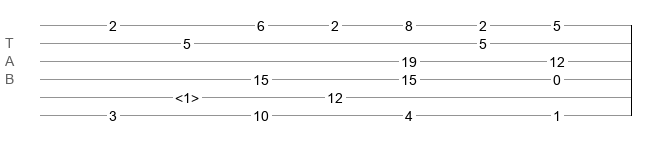0: (553, 72, 561, 82)
1: (553, 108, 561, 118)
10: (253, 108, 269, 118)
12: (327, 90, 343, 100), (549, 54, 565, 64)
15: (253, 72, 269, 82), (401, 72, 417, 82)
19: (401, 54, 417, 64)
2: (109, 18, 117, 28), (331, 18, 339, 28), (479, 18, 487, 28)
3: (109, 108, 117, 118)
4: (405, 108, 413, 118)
5: (183, 36, 191, 46), (479, 36, 487, 46), (553, 18, 561, 28)
6: (257, 18, 265, 28)
8: (405, 18, 413, 28)
harmonic: (175, 90, 199, 100)
